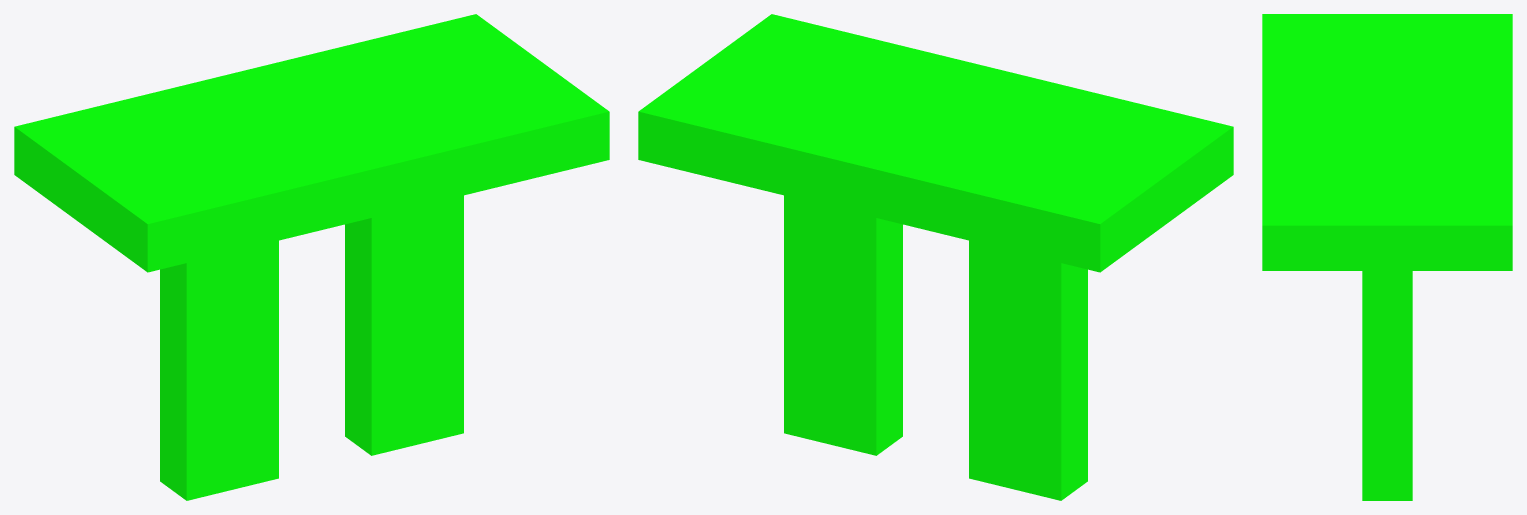
The picture shows the model from 3 angles, left to right: view 1: azimuth 30°, elevation 25°; view 2: azimuth 150°, elevation 25°; view 3: azimuth 270°, elevation 25°; orthographic projection. The views are drawn at different scales.
Size of the model in its own units: 100 by 70 by 50.
